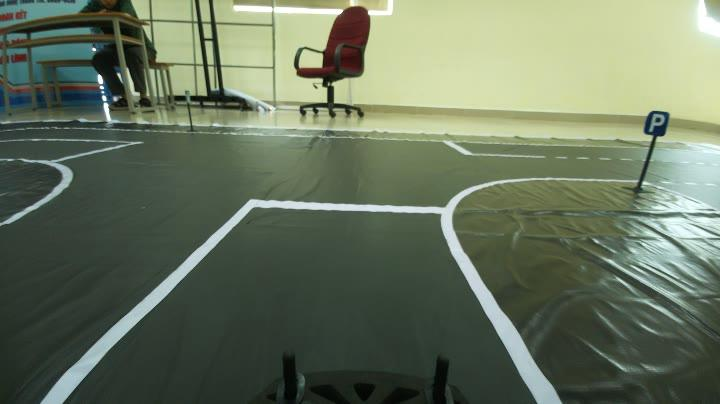parking: (643, 106, 671, 137)
